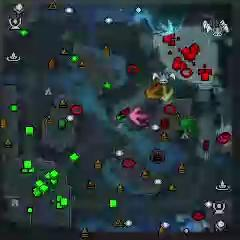x1: (130, 107, 149, 126)
x2: (160, 84, 174, 102)
x3: (158, 21, 174, 36)
x4: (180, 116, 197, 135)
x5: (145, 83, 162, 100)
